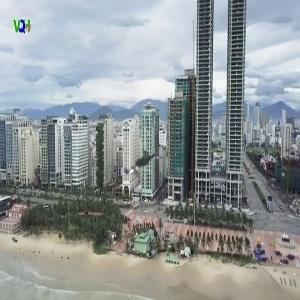drone: (58, 87, 215, 244)
